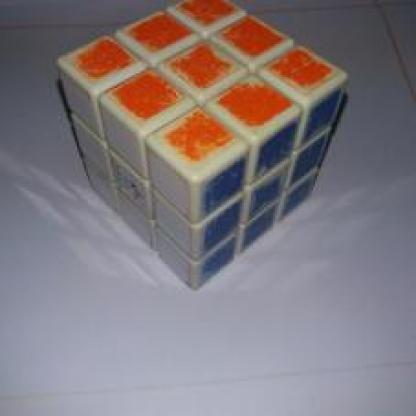cube: (51, 6, 345, 280)
